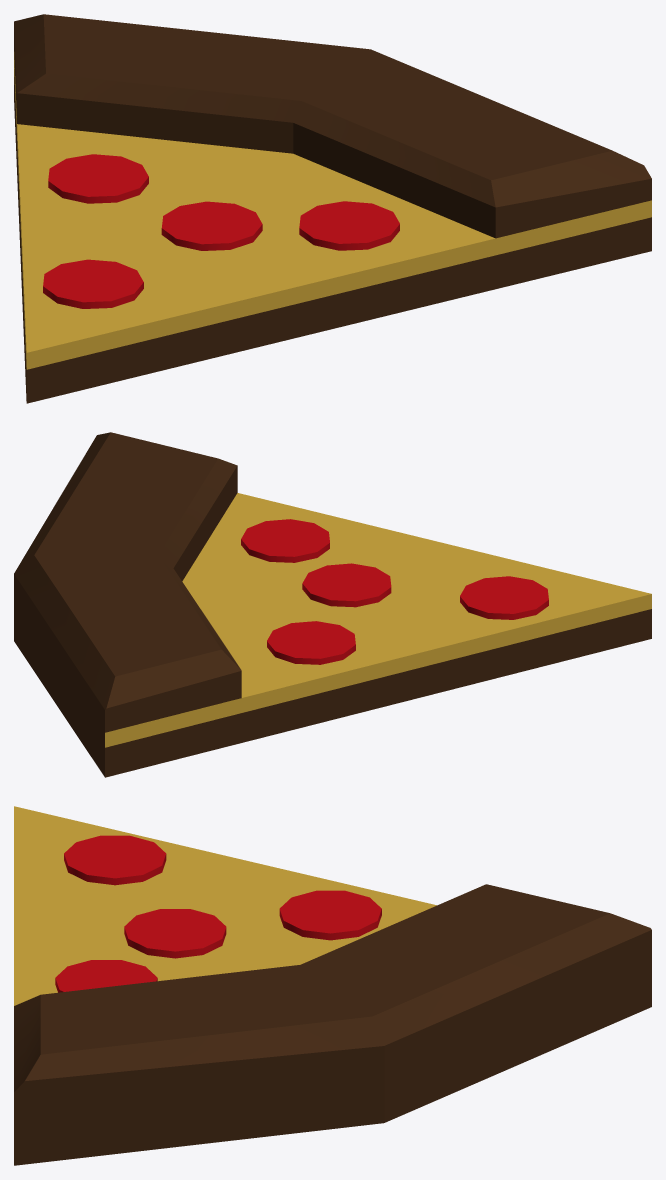
Rendered from pizza.FBX.
3 views of the same model, one above another, from view 1: azimuth 30°, elevation 25°; view 2: azimuth 150°, elevation 25°; view 3: azimuth 270°, elevation 25° (orthographic). The views are drawn at different scales.
Parts seen in each view (by area): view 1: Pizza; view 2: Pizza; view 3: Pizza.
Boxes of the visible parts, box(x1,y1,x2,y2) form: Pizza: box(14, 14, 651, 403); Pizza: box(14, 432, 651, 777); Pizza: box(14, 806, 651, 1165).
Size of the model in its own units: 36.86 by 5.48 by 32.24.
